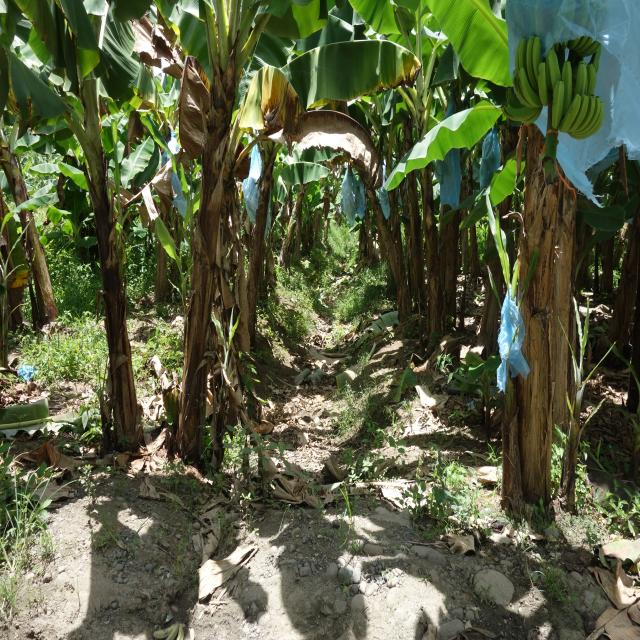Banana-plant: (494, 51, 596, 505), (165, 0, 262, 459), (59, 0, 138, 458), (400, 22, 446, 351), (0, 115, 56, 321)
